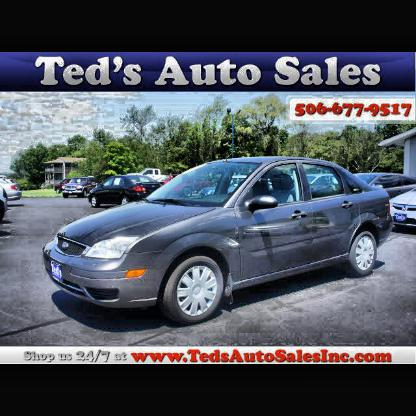Ford Focus Sedan 2007: (43, 152, 391, 322)
